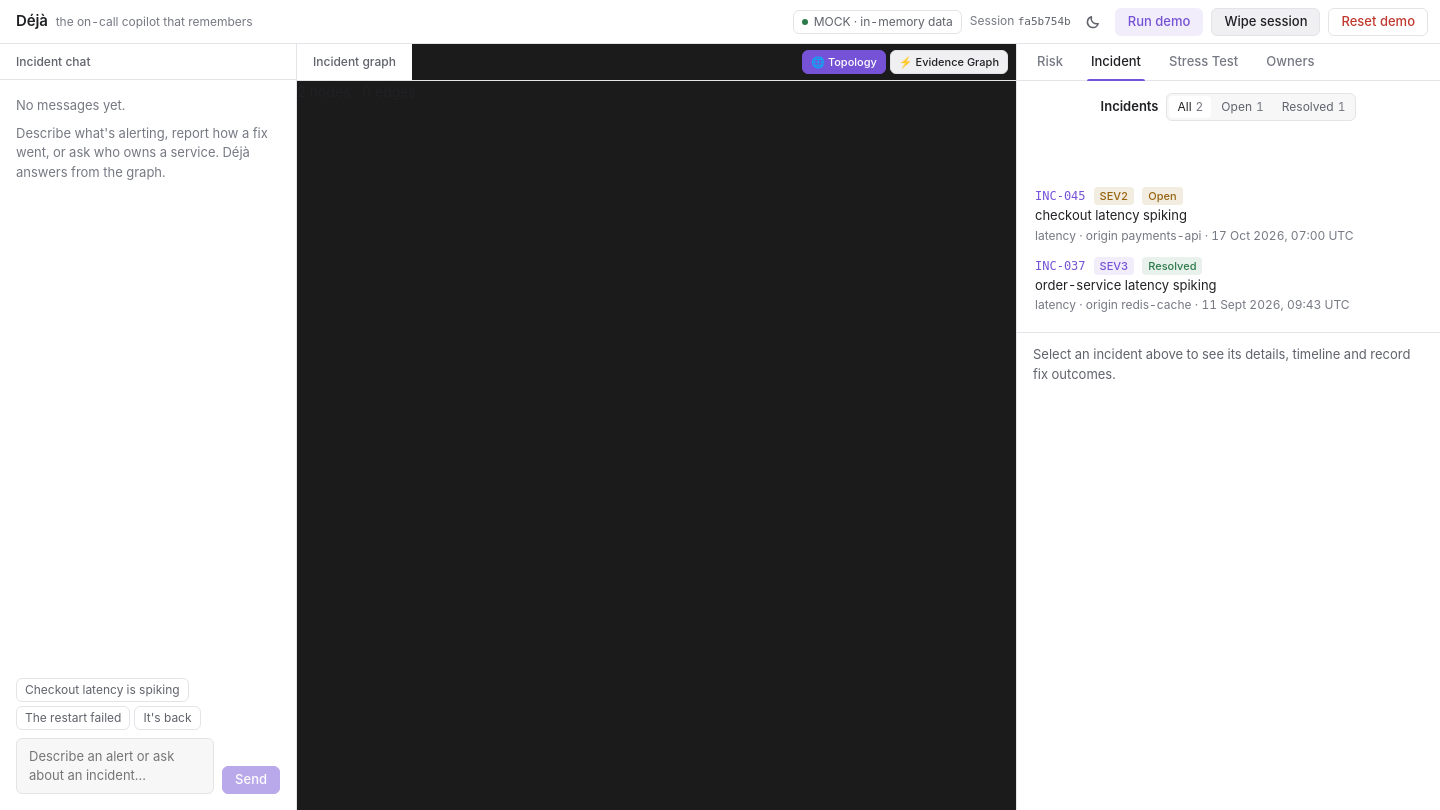
Test case: startup and layout › re-checks health when chat fails (no stale 'connected' badge) and again once a message succeeds
The image size is (1440, 810).
Expected: the button "MOCK · in-memory data" is shown, [793, 10, 962, 34]
Click the button "It's back" at (167, 718), box [134, 706, 200, 730]
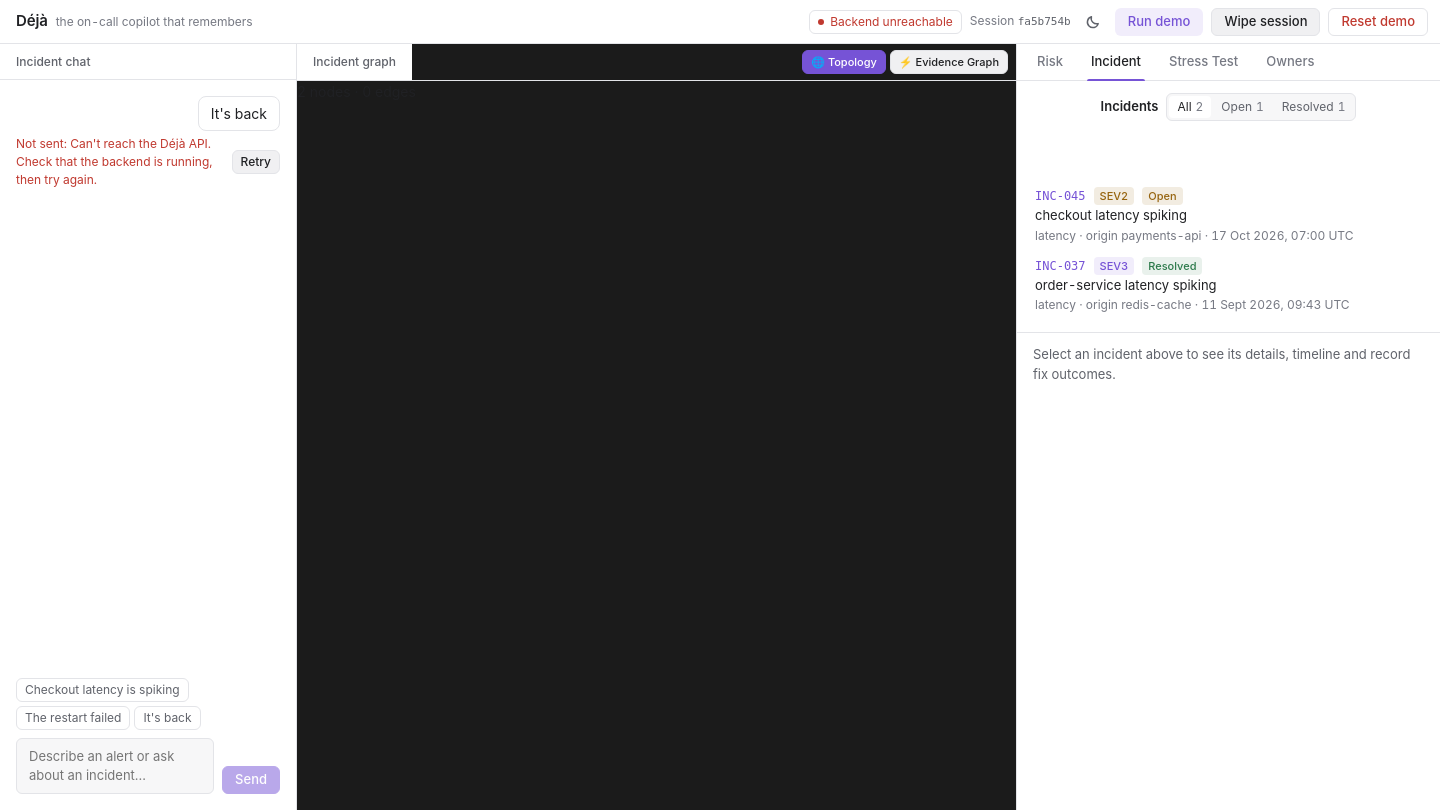
Now the button "Backend unreachable" is shown, box [809, 10, 962, 34]
Click the button "Retry" at (256, 162), box [232, 150, 280, 174]
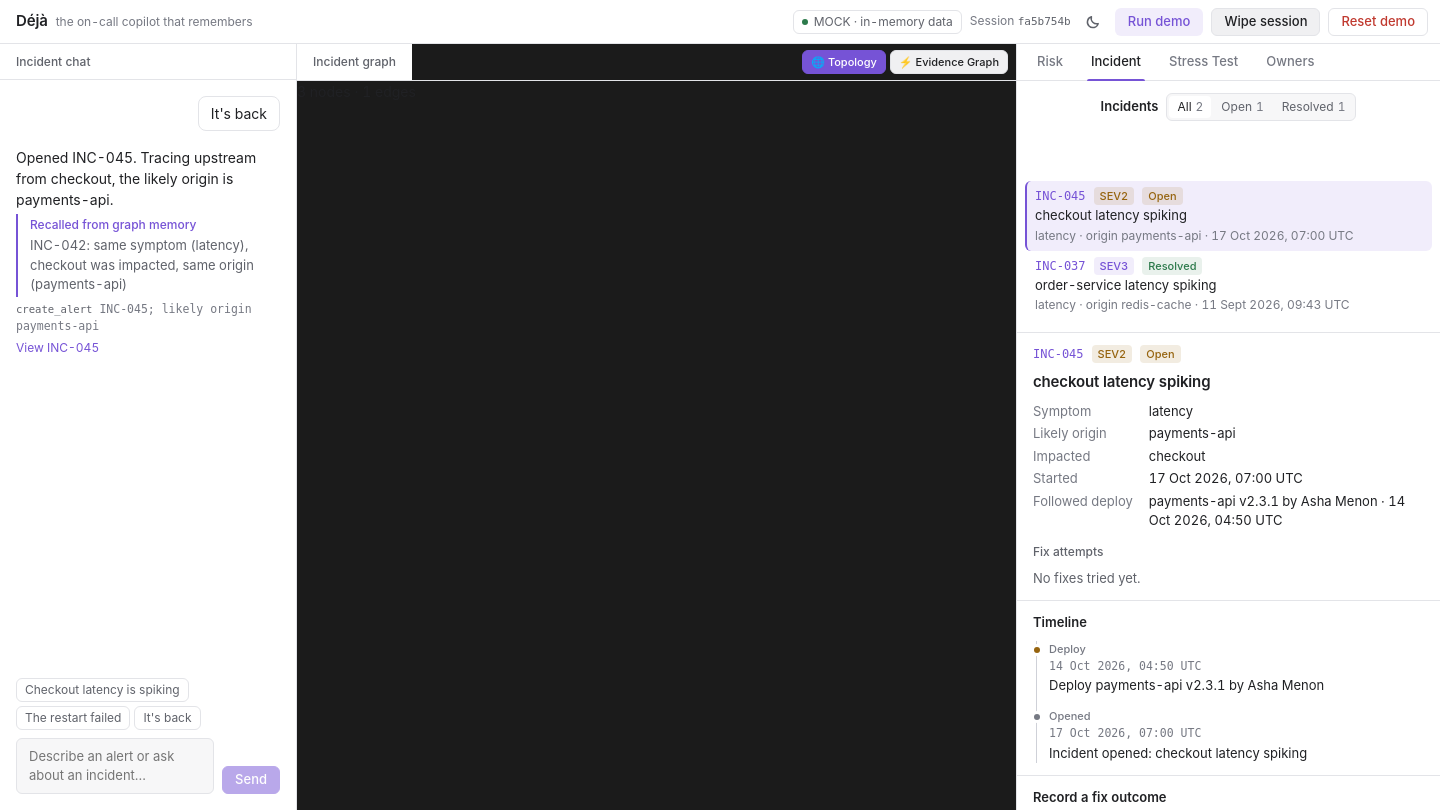
Now the text "Opened INC-045. Tracing upstream from checkout, the likely origin is payments-api." is shown, box [16, 149, 260, 208]
Now the button "MOCK · in-memory data" is shown, box [793, 10, 962, 34]
